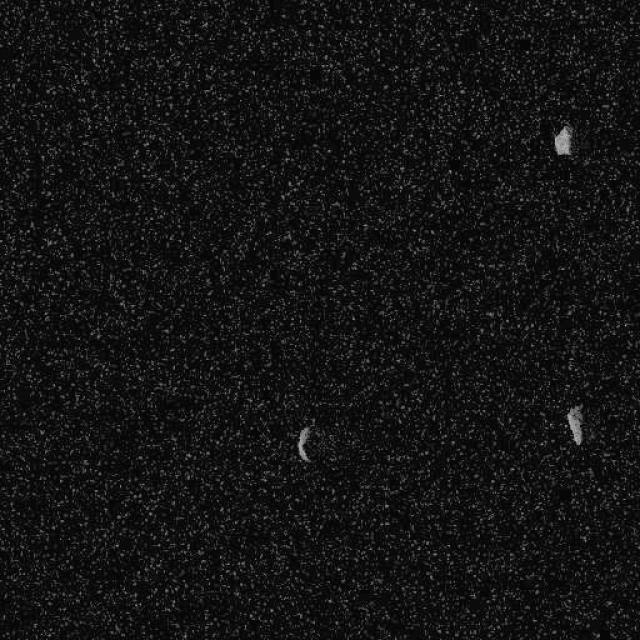D2: (565, 404, 584, 446), (295, 424, 314, 464), (552, 124, 574, 156)
